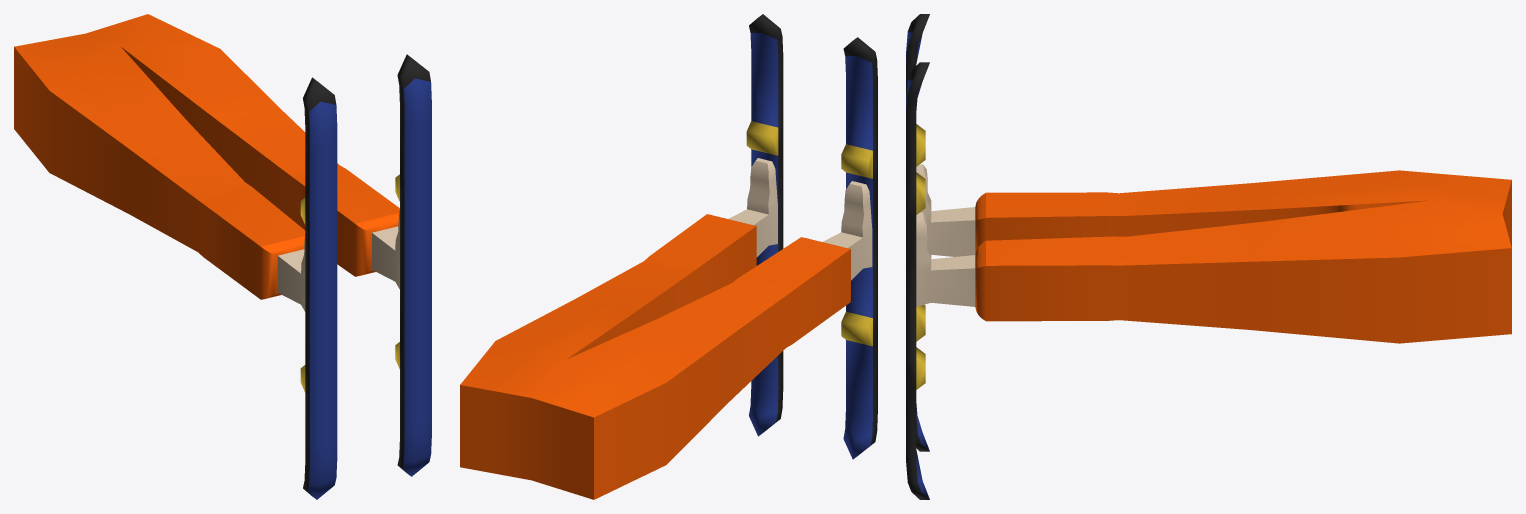
File: CharacterSemilleroV.fbx
The picture shows the model from 3 angles, left to right: view 1: azimuth 30°, elevation 25°; view 2: azimuth 150°, elevation 25°; view 3: azimuth 270°, elevation 25°; orthographic projection. The views are drawn at different scales.
Parts seen in each view (by area): view 1: Cube.001; view 2: Cube.001; view 3: Cube.001.
Part boxes in pixels (bbox=[...]): Cube.001: bbox=[14, 14, 431, 499]; Cube.001: bbox=[460, 14, 877, 499]; Cube.001: bbox=[906, 14, 1511, 499].
Size of the model in its own units: 200 by 469 by 588.
